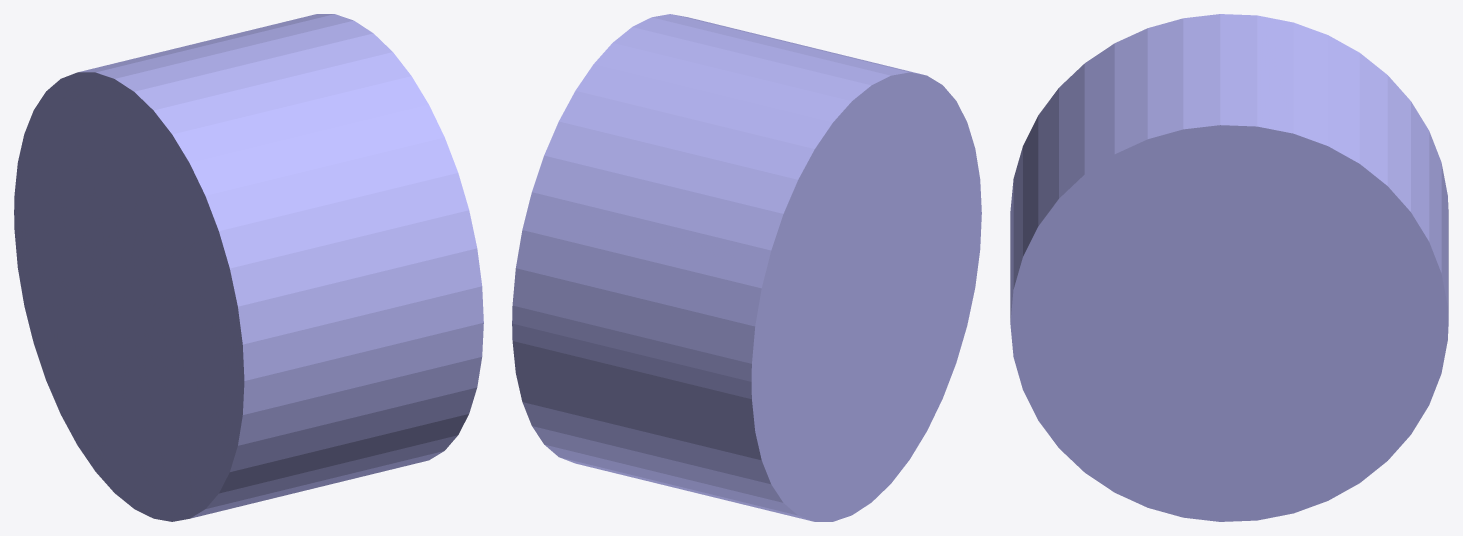
The model's file is wrist-pitch.glb.
The picture shows the model from 3 angles, left to right: view 1: azimuth 30°, elevation 25°; view 2: azimuth 150°, elevation 25°; view 3: azimuth 270°, elevation 25°; orthographic projection. The views are drawn at different scales.
Visible parts, largest first — view 1: Wrist Pitch; view 2: Wrist Pitch; view 3: Wrist Pitch.
Part boxes in pixels (x1,y1,x2,y2): Wrist Pitch: (14,14,483,521); Wrist Pitch: (512,14,981,521); Wrist Pitch: (1010,14,1448,521).
Size of the model in its own units: 0.045 by 0.0749 by 0.075.
